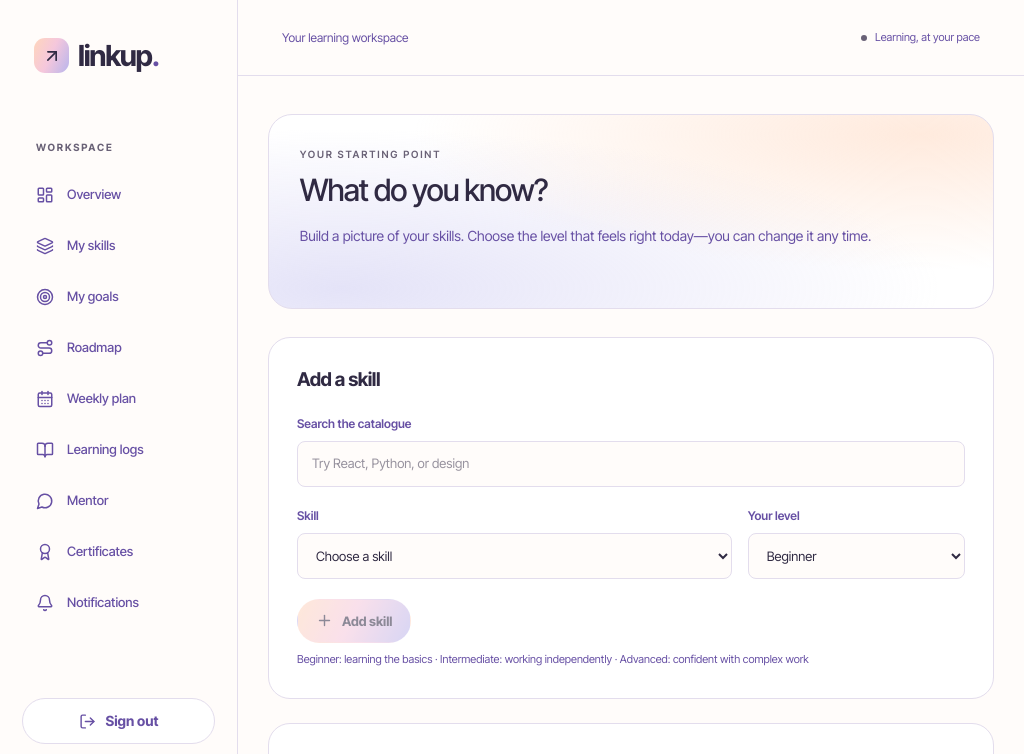
Test case: skill profile screen › debounces catalogue searches and shows an empty search result
The width and height of the screenshot is (1024, 754).
Expected: the dropdown labelled "Skill" is shown, [297,533,732,579]
Type "unknown" into the search field labelled "Search the catalogue". click: (631, 464)
box: [297,441,965,487]
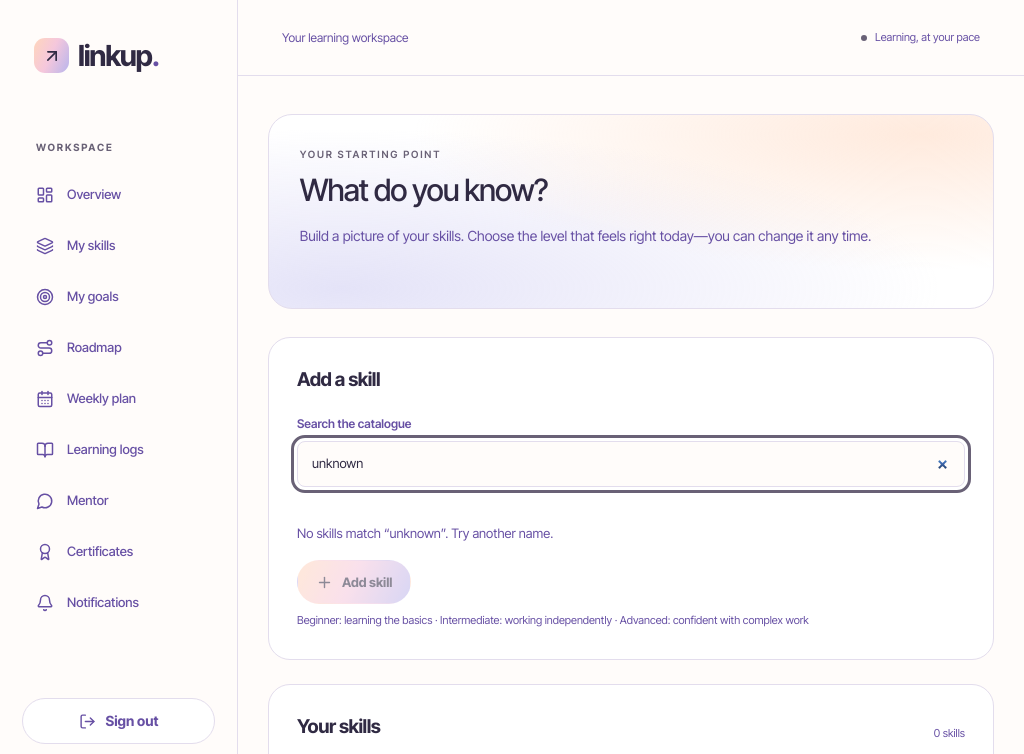
Expected: the button "Add skill" is disabled, [297,560,412,604]
Now the text "No skills match “unknown”. Try another name." is shown, box [297,525,553,541]
